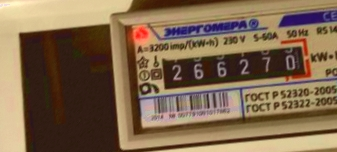0: (285, 51, 298, 69)
2: (170, 60, 185, 79), (239, 55, 252, 74)
6: (193, 59, 207, 78), (216, 58, 230, 77)
7: (262, 52, 274, 71)
screen: (152, 32, 319, 97)
